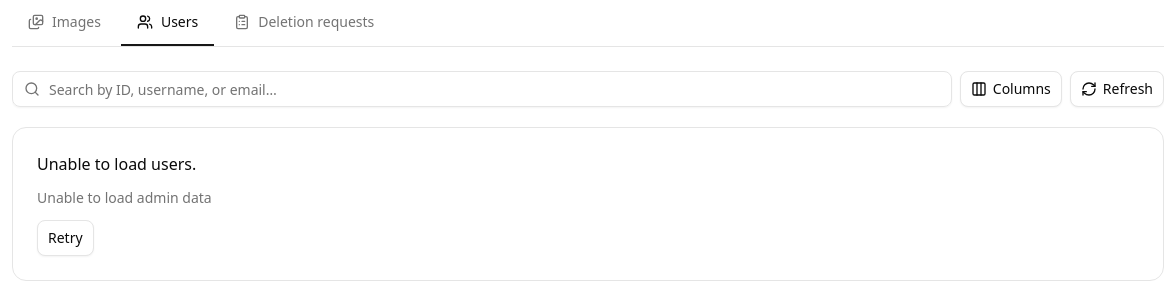
Test: admin tables › shows GraphQL errors and recovers through Retry
Expected: the message shows "Unable to load admin data", [37,188,212,207]
Click the button "Retry".
click(65, 238)  # box [37,220,94,256]
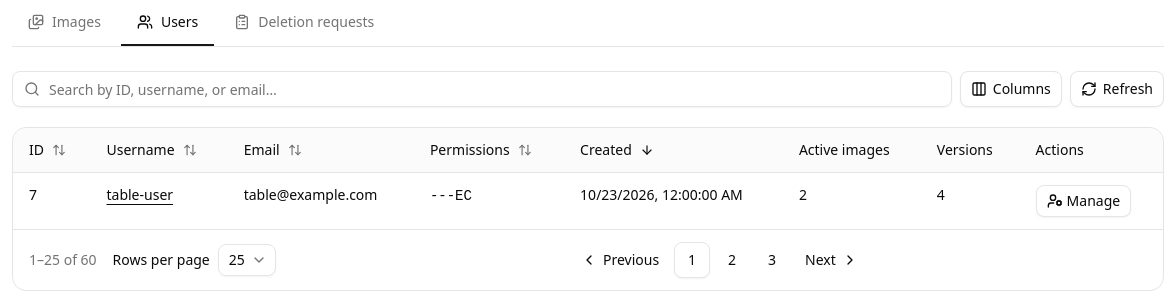
Now the link "table-user" is shown, box [106,185,173,204]
